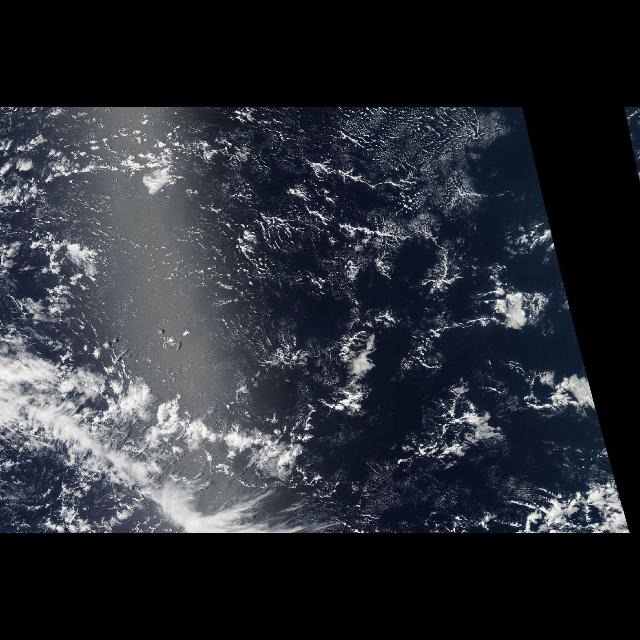Fish: (79, 339, 347, 511)
Sugar: (193, 108, 504, 225)
